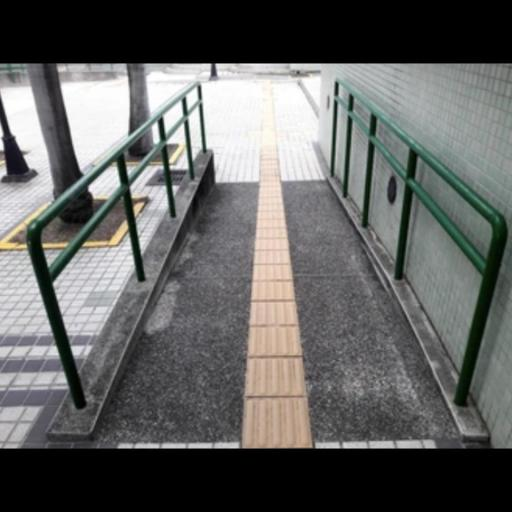line: (242, 397, 315, 447), (245, 356, 306, 398), (245, 325, 303, 358), (251, 298, 298, 327)
